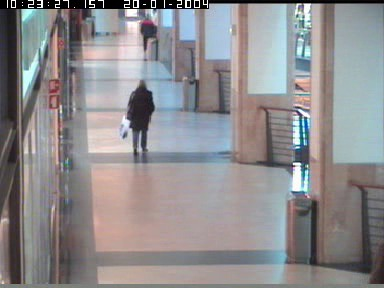person: (119, 79, 155, 155), (139, 15, 155, 53), (369, 241, 383, 282), (150, 9, 159, 39)
